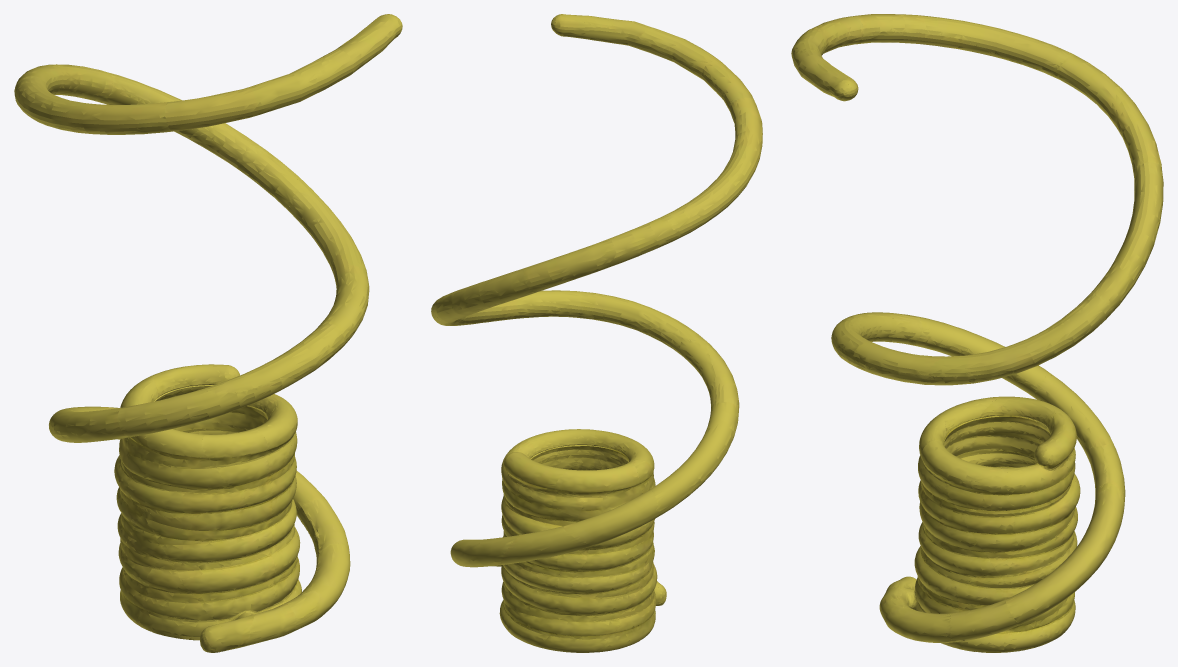
The model's file is 03_7_gj_pen_holder2-opt-v17.glb.
3 views of the same model, side by side, from view 1: azimuth 30°, elevation 25°; view 2: azimuth 150°, elevation 25°; view 3: azimuth 270°, elevation 25° (orthographic). The views are drawn at different scales.
Visible parts, largest first — view 1: tripo_node_2d6ff769-91ab-4be0-83d7-33e3cf566489.002; view 2: tripo_node_2d6ff769-91ab-4be0-83d7-33e3cf566489.002; view 3: tripo_node_2d6ff769-91ab-4be0-83d7-33e3cf566489.002.
Part boxes in pixels (box(x1,y1,x2,y2)): tripo_node_2d6ff769-91ab-4be0-83d7-33e3cf566489.002: box(14, 14, 402, 652); tripo_node_2d6ff769-91ab-4be0-83d7-33e3cf566489.002: box(431, 14, 762, 652); tripo_node_2d6ff769-91ab-4be0-83d7-33e3cf566489.002: box(791, 14, 1163, 652).
Bounding box in the file's own units: 0.15 × 0.2803 × 0.162.
1 material, 1 textured.
